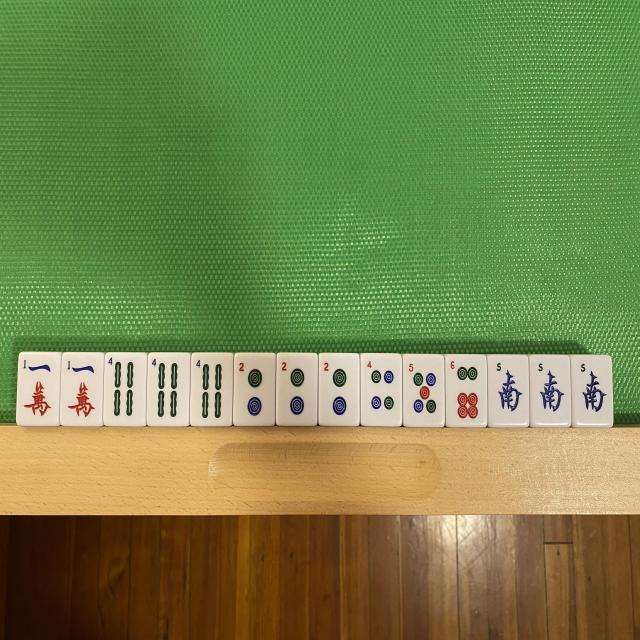hws: (572, 356, 611, 426), (532, 355, 570, 425), (490, 356, 528, 424)
sb4: (105, 354, 147, 424), (191, 354, 232, 425), (148, 354, 189, 424)
sc1: (63, 356, 101, 424), (19, 354, 57, 422)
sd2: (233, 354, 276, 424), (276, 354, 317, 424), (319, 354, 359, 425)
sd4: (361, 356, 400, 426)
sd5: (404, 355, 443, 424)
sd6: (446, 355, 486, 425)
